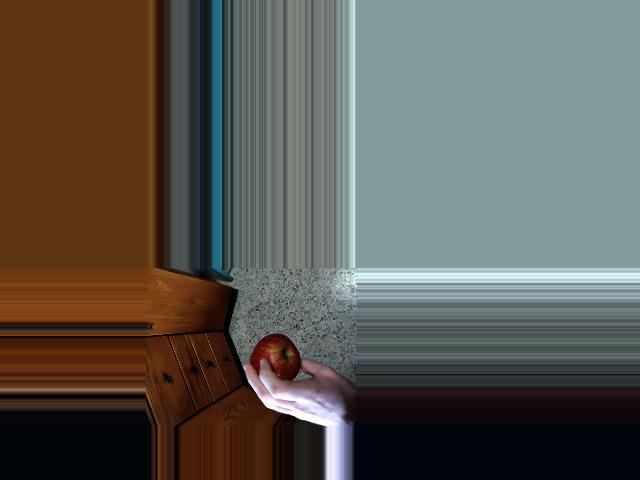apple: (243, 332, 303, 389)
